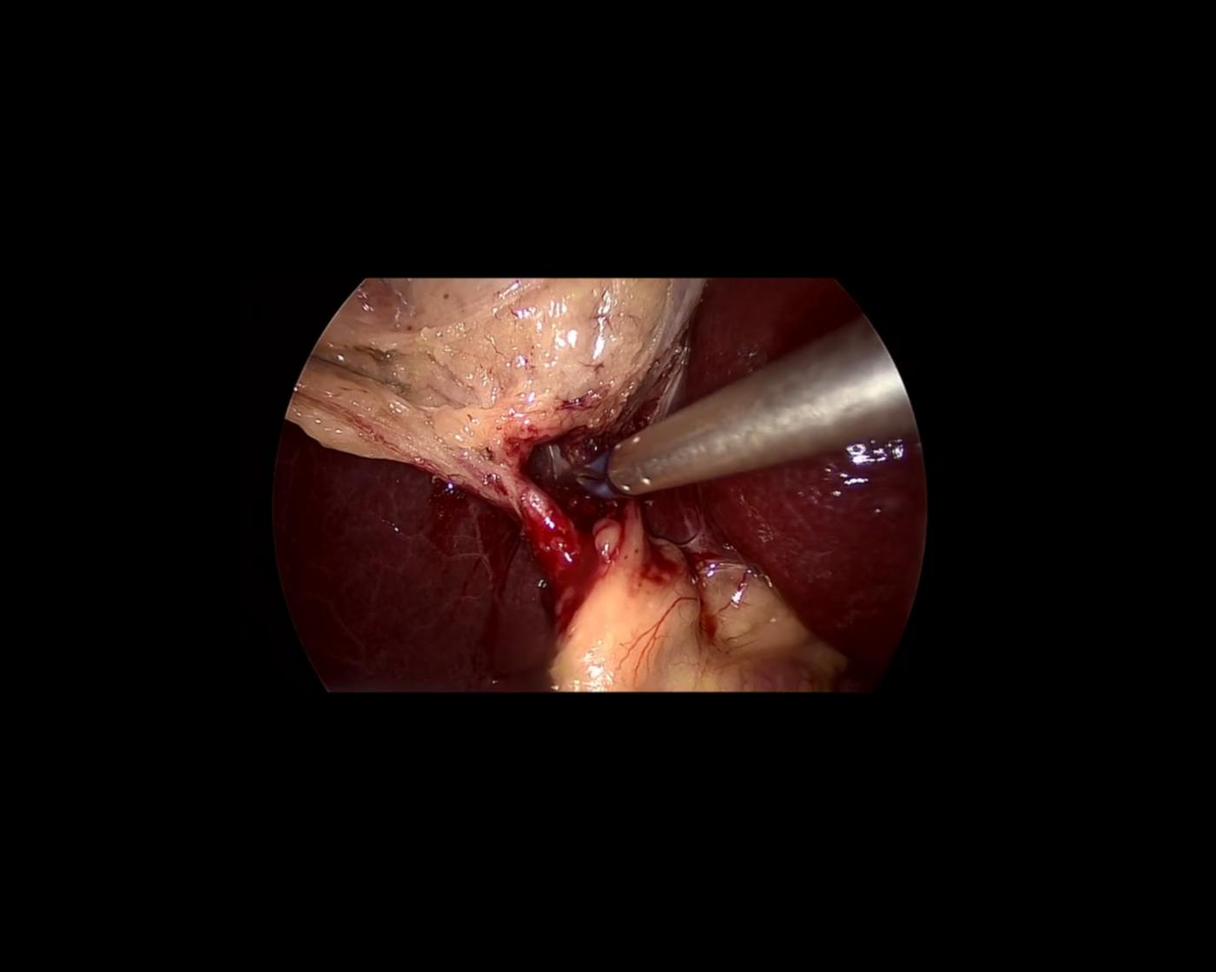Allis: (551, 316, 924, 588)
Gallbladder: (290, 279, 718, 486)
Liver: (610, 244, 991, 682), (278, 423, 557, 692)
